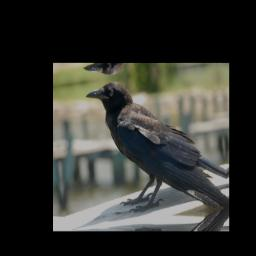Crow: (84, 67, 228, 227)
